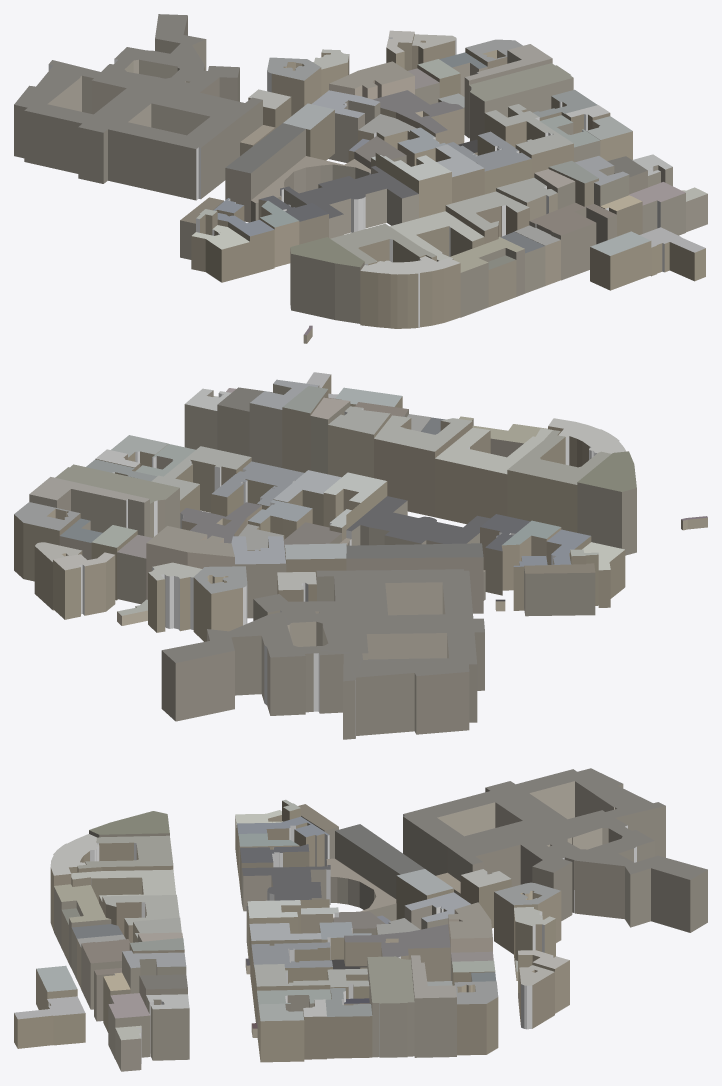
3 views of the same model, one above another, from view 1: azimuth 30°, elevation 25°; view 2: azimuth 150°, elevation 25°; view 3: azimuth 270°, elevation 25° (orthographic). The views are drawn at different scales.
Parts seen in each view (by area): view 1: tuile; view 2: tuile; view 3: tuile.
Boxes of the visible parts, box(x1,y1,x2,y2) form: tuile: box(14, 14, 707, 343); tuile: box(14, 372, 707, 739); tuile: box(14, 768, 707, 1071).
Size of the model in its own units: 276 by 39.54 by 345.
